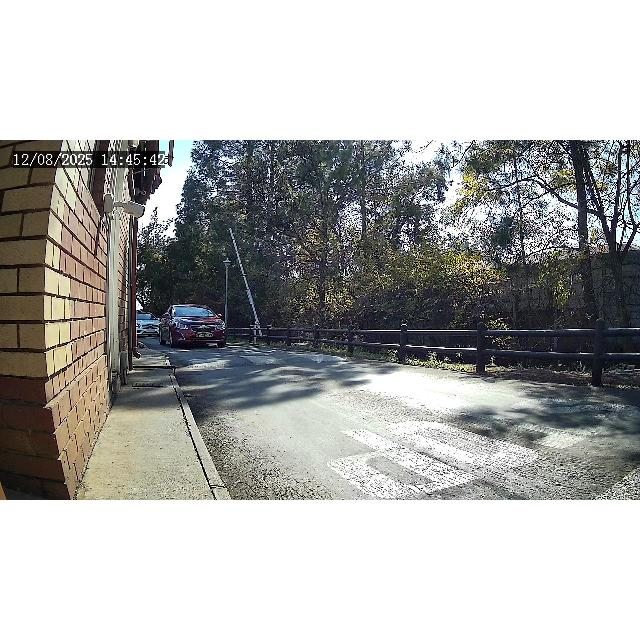car: (158, 304, 228, 350), (135, 310, 163, 338)
plate: (195, 332, 213, 340)
